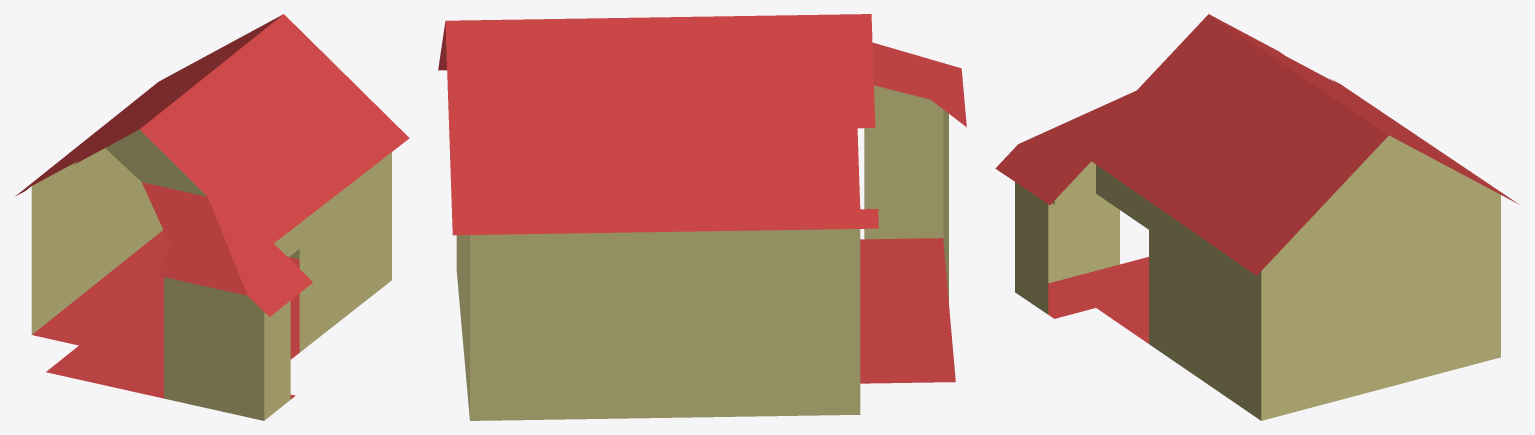
3 views of the same model, side by side, from view 1: azimuth 30°, elevation 25°; view 2: azimuth 150°, elevation 25°; view 3: azimuth 270°, elevation 25° (orthographic). The views are drawn at different scales.
Bounding box in the file's own units: 24.68 × 27.68 × 15.05.
